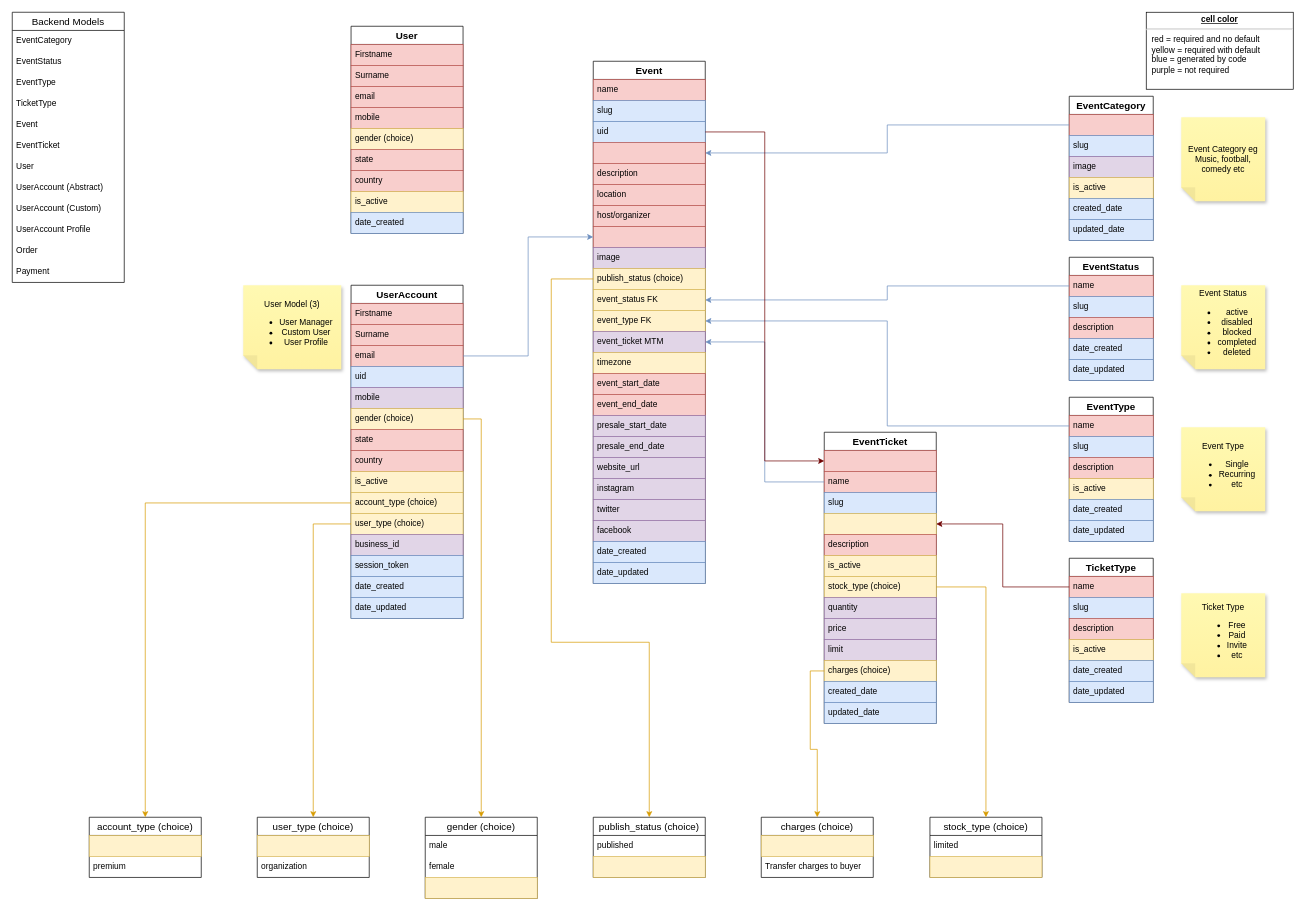
Some shapes in this 1306 by 913 pixel diagram are drawn without their labels. Here are the shapes that lost their labels. From the top down, the centre of each, then its label:
At (x=1111, y=124): "title".
At (x=649, y=152): "category FK".
At (x=649, y=236): "user FK".
At (x=880, y=460): "event FK".
At (x=880, y=523): "type FK".
At (x=145, y=845): "freemium".
At (x=313, y=845): "personal".
At (x=817, y=845): "Leave charges with me".
At (x=649, y=866): "not published".
At (x=985, y=866): "unlimited".
At (x=481, y=887): "others".
